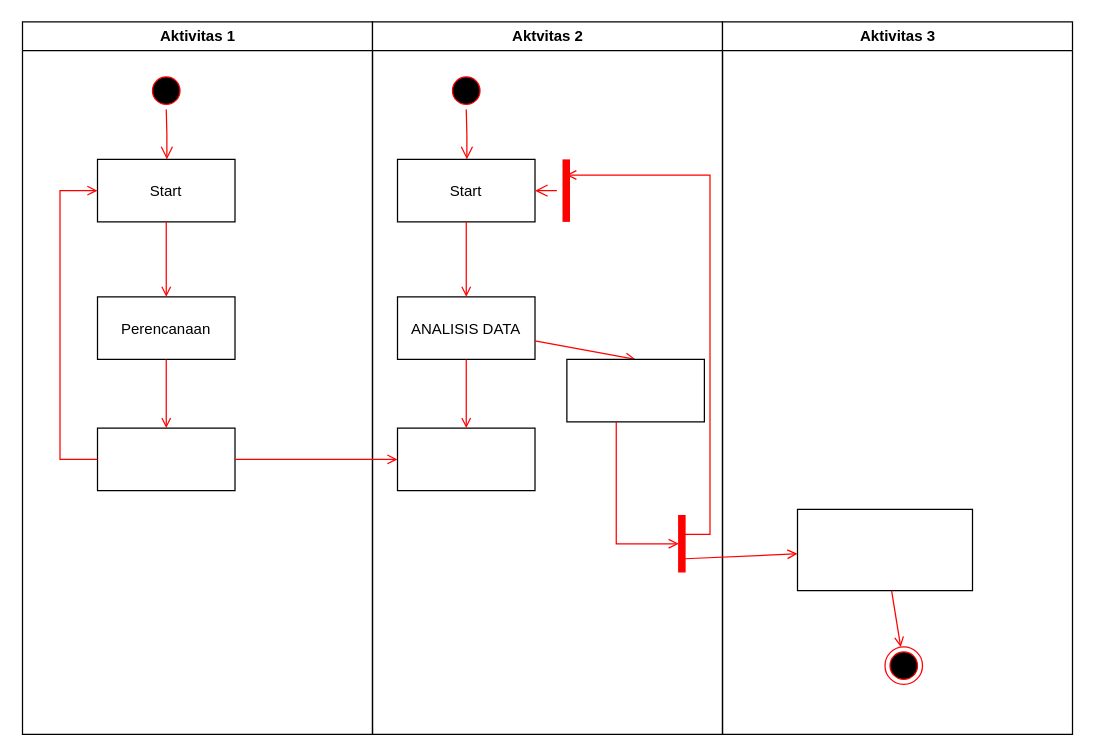
The diagram is 1094 pixels wide and 756 high, and some of its shapes have lost their labels. The centre of each missing label's shape, as x and y in pixels:
EVALUASI: [635,390]
Input data: [165,459]
Keputusan Prioritas Pembangunan: [884,549]
Proses AHP: [465,459]
